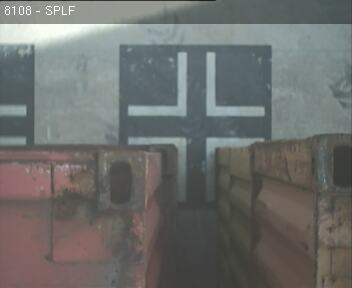groundmarker_1: (128, 51, 265, 116), (129, 137, 266, 202)
